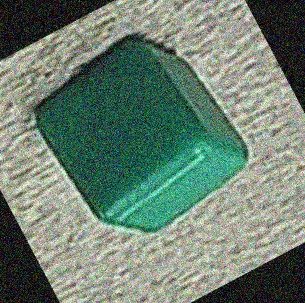green_cube: (29, 30, 267, 245)
